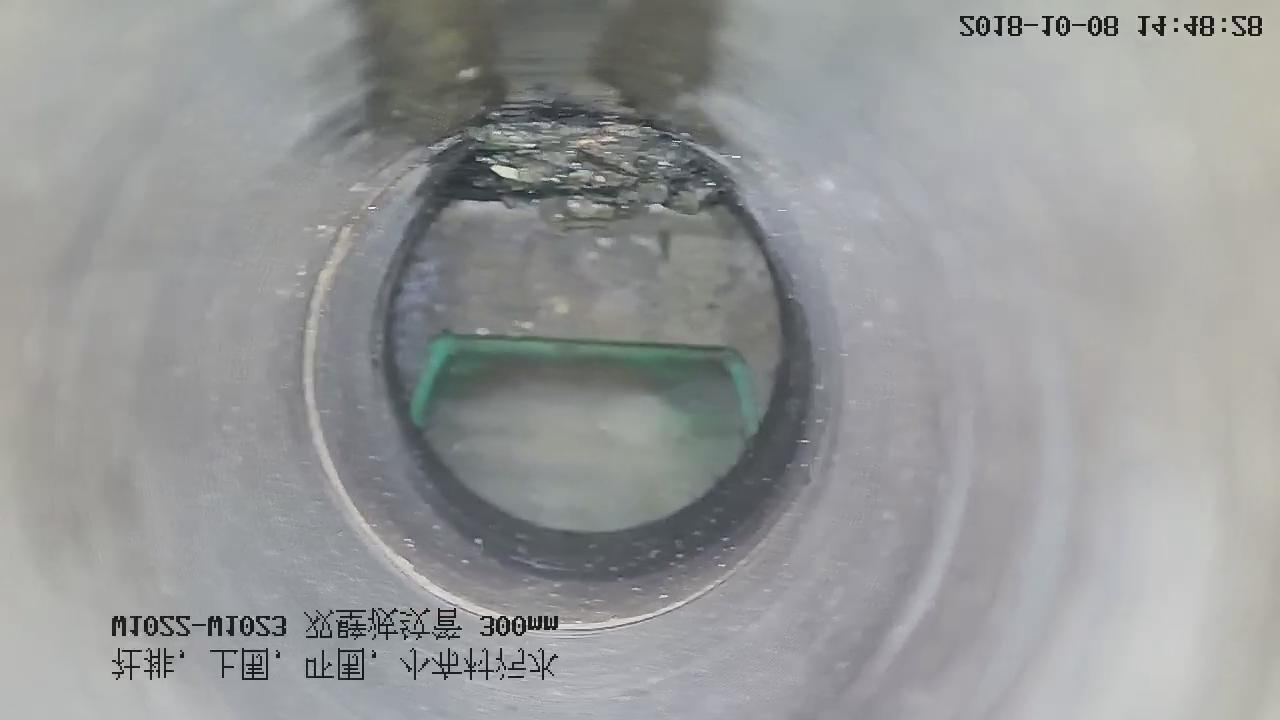CJ: (444, 107, 729, 231)
CKTJ: (296, 117, 837, 639)
YWCR: (411, 333, 758, 533)
